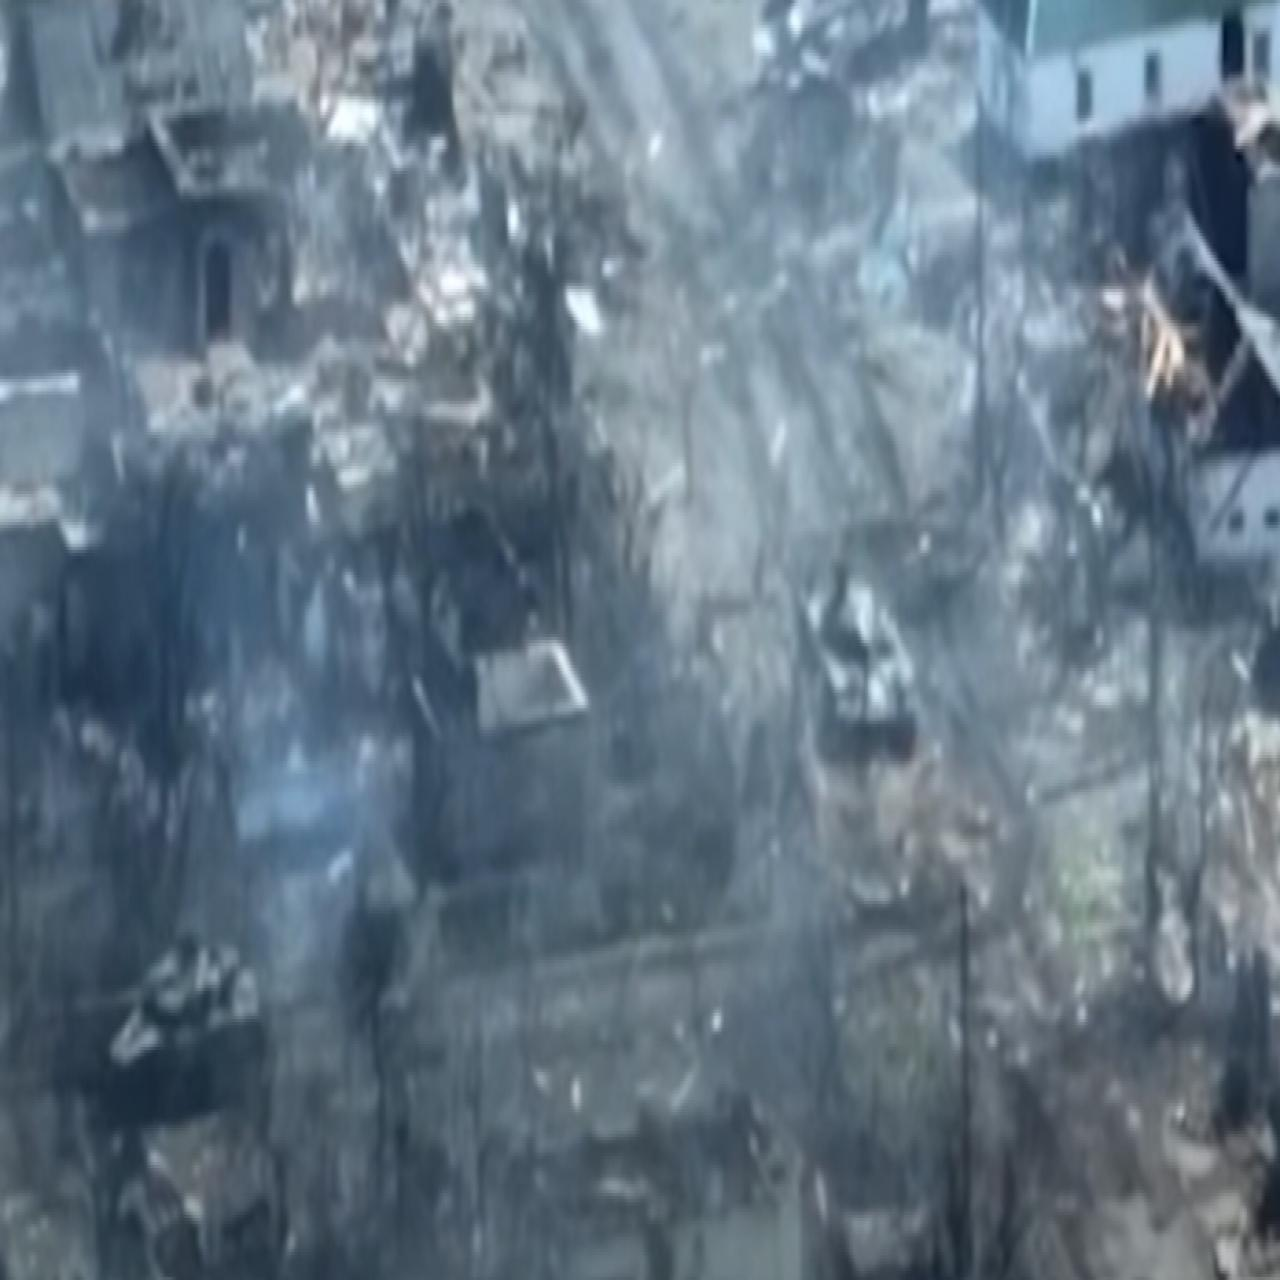MIL_Veh: (82, 941, 270, 1105), (783, 552, 920, 775)
